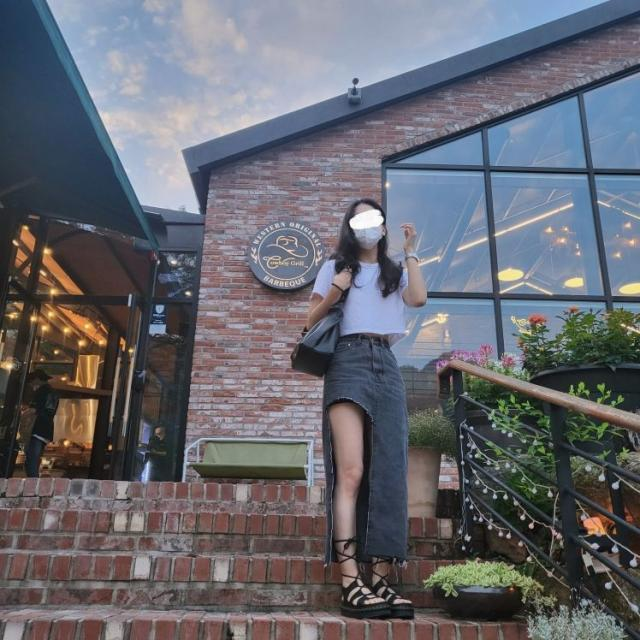shortsleeve: (310, 255, 415, 347)
skirt: (321, 335, 409, 567)
